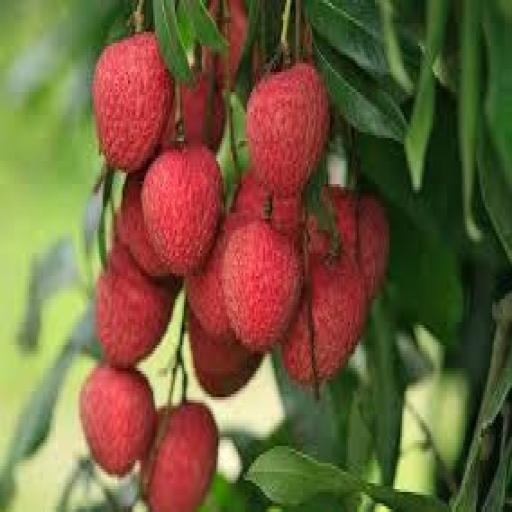lychee: (92, 32, 173, 172), (282, 254, 367, 385), (247, 64, 329, 195), (222, 222, 302, 350), (96, 242, 176, 368), (143, 147, 221, 276), (80, 366, 156, 477), (145, 403, 218, 511), (323, 187, 389, 299), (186, 216, 243, 339), (190, 314, 261, 396), (116, 173, 169, 279), (233, 170, 301, 238), (181, 72, 225, 149), (357, 196, 389, 299), (228, 0, 248, 80)
